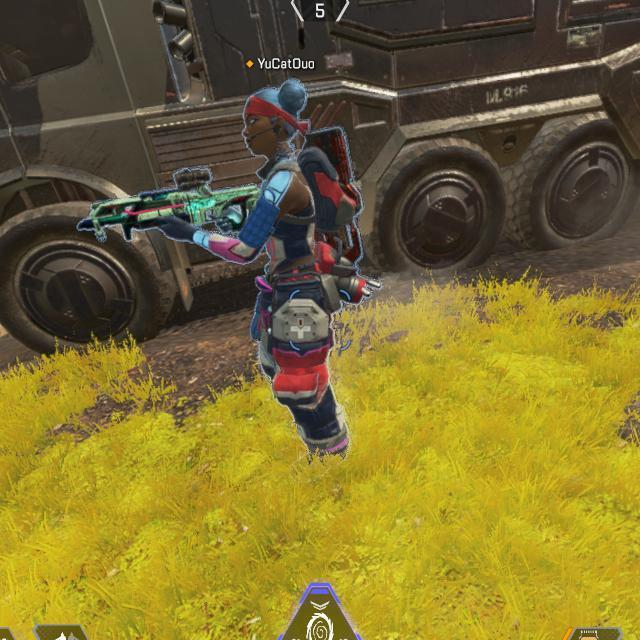avatar: (237, 80, 364, 470)
